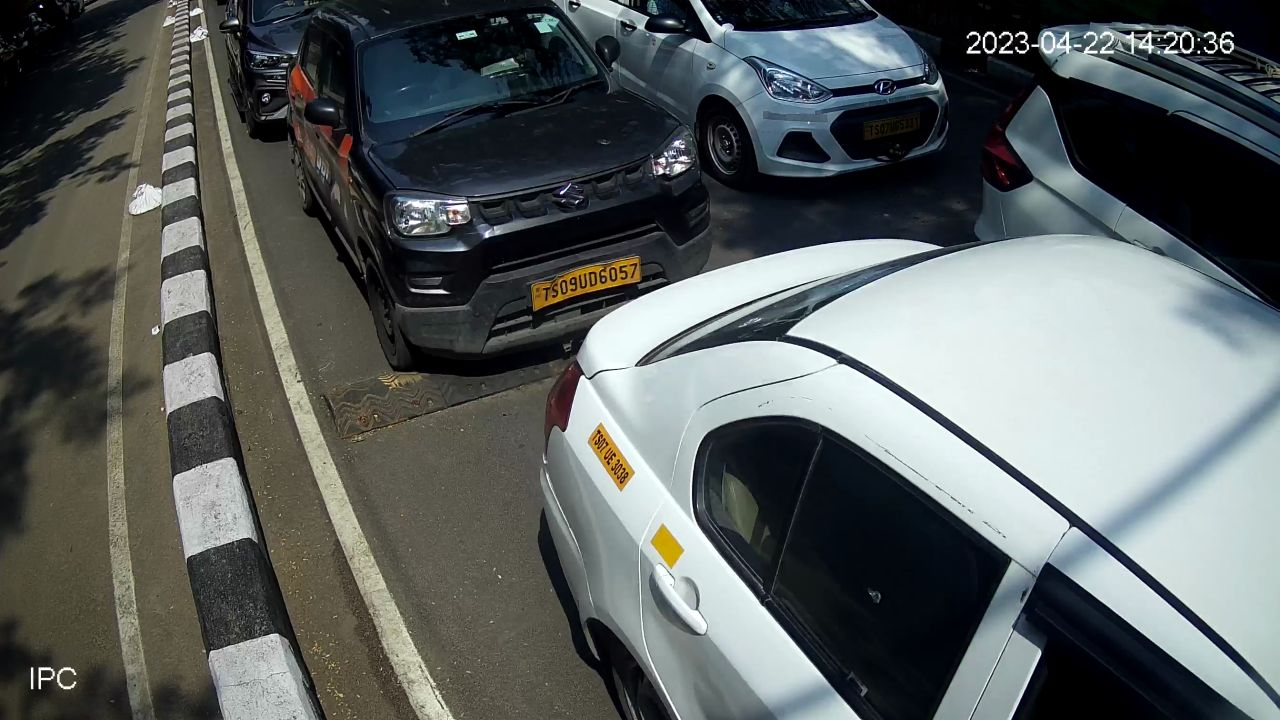license_plate: (528, 250, 647, 319), (586, 421, 637, 492), (856, 110, 924, 147)
